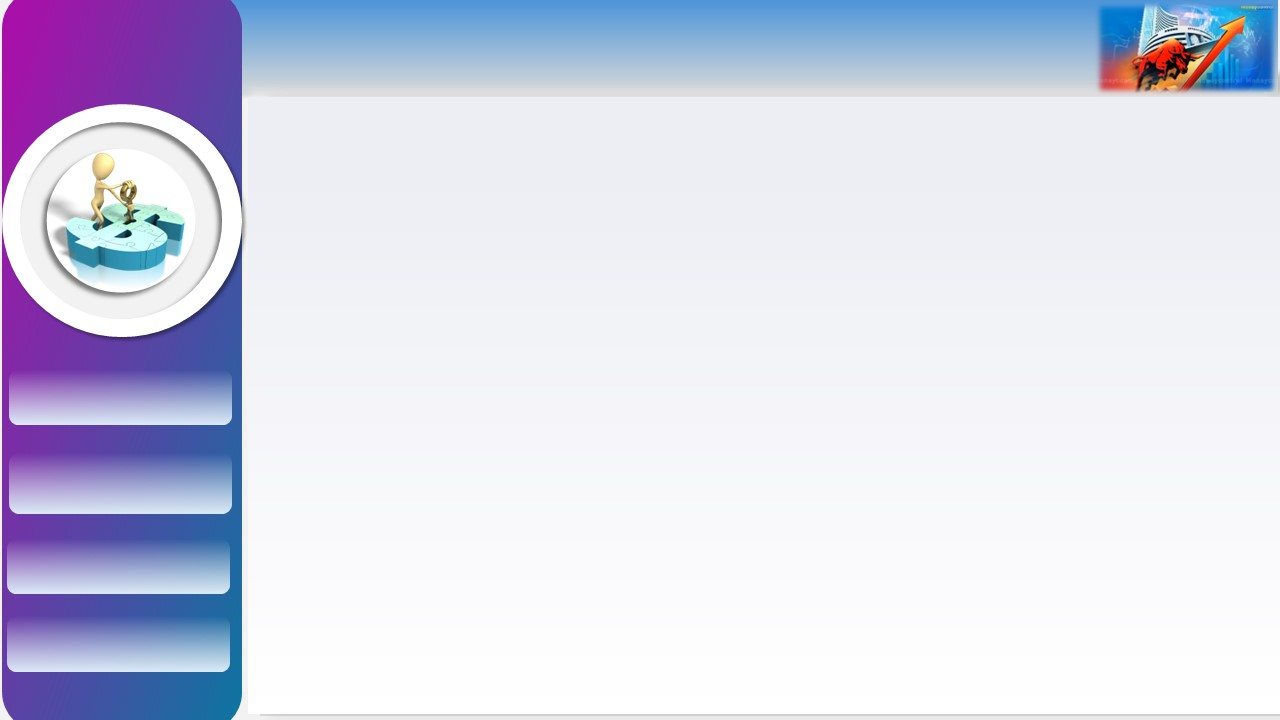

This screenshot's page, from the dashboard's own definition file:
{"tool":"powerbi","page":{"name":"Info","canvas":[1280,720],"ordinal":4},"visuals":[{"type":"actionButton","box":[12.5,463.4,220.3,47.8],"z":0},{"type":"actionButton","box":[12.5,134,220.3,50.9],"z":1000},{"type":"actionButton","box":[12.5,302.3,220.3,50.9],"z":2000},{"type":"actionButton","box":[12.5,216.1,220.3,55.1],"z":3000},{"type":"actionButton","box":[12.5,384.4,220.3,47.8],"z":4000},{"type":"textbox","box":[278.4,23.9,371.9,55.1],"z":5000},{"type":"image","box":[155.8,463.4,64.4,54],"z":6000},{"type":"textbox","box":[270.1,102.9,992.2,579.7],"z":7000}]}

Visuals, with their boxes in screenshot pixels (x1, y1, x2, y2), scaled from the page's 1280x720 canvas onto the 1280x720 screenshot:
actionButton: bbox(12, 463, 233, 511)
actionButton: bbox(12, 134, 233, 185)
actionButton: bbox(12, 302, 233, 353)
actionButton: bbox(12, 216, 233, 271)
actionButton: bbox(12, 384, 233, 432)
textbox: bbox(278, 24, 650, 79)
image: bbox(156, 463, 220, 517)
textbox: bbox(270, 103, 1262, 683)
